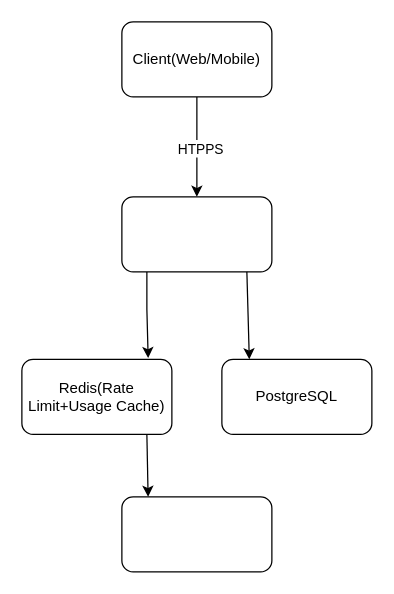
Image size: 394x594. Some labels were removed from this diagram. Here are the shapes that lost their labels. From the top down, the centre of each, then its label:
pixel 196 234: NestTJS API Server
pixel 196 534: Cron scheduler(Invoices/Reset)
